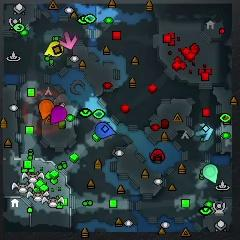p1: (95, 121, 116, 139)
p2: (203, 164, 218, 183)
p3: (50, 106, 67, 125)
p4: (44, 41, 64, 57)
p5: (39, 100, 55, 119)
x1: (60, 32, 77, 50)
x3: (196, 123, 214, 141)
